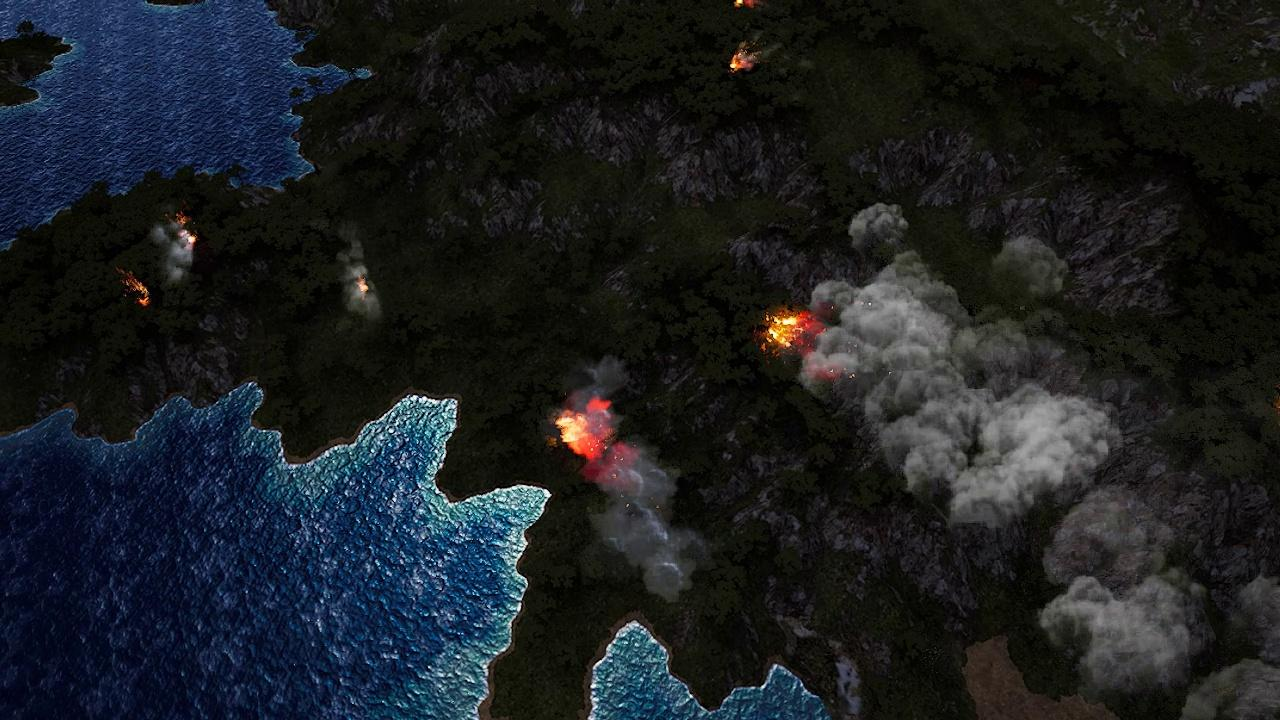fire: (553, 398, 613, 456), (762, 308, 818, 353), (121, 272, 154, 305), (725, 42, 754, 74), (175, 216, 196, 250), (356, 275, 370, 299)
smoke: (798, 200, 1276, 716), (551, 354, 706, 599), (339, 231, 389, 317), (150, 214, 201, 284)
